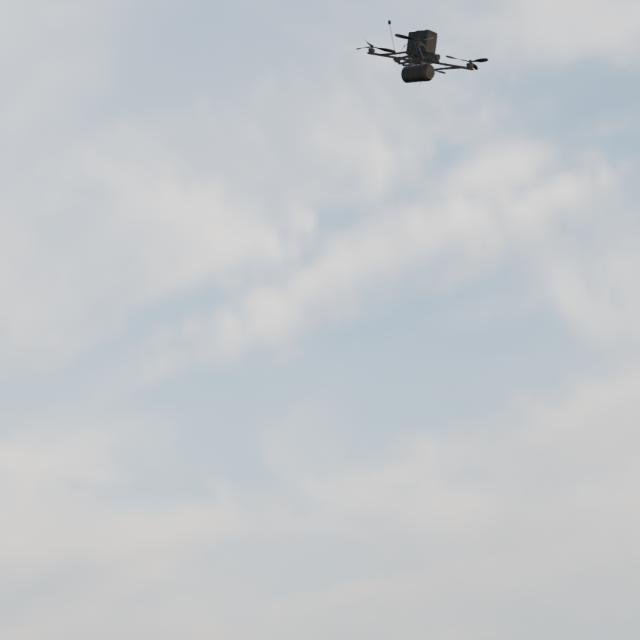drone: (356, 20, 489, 85)
